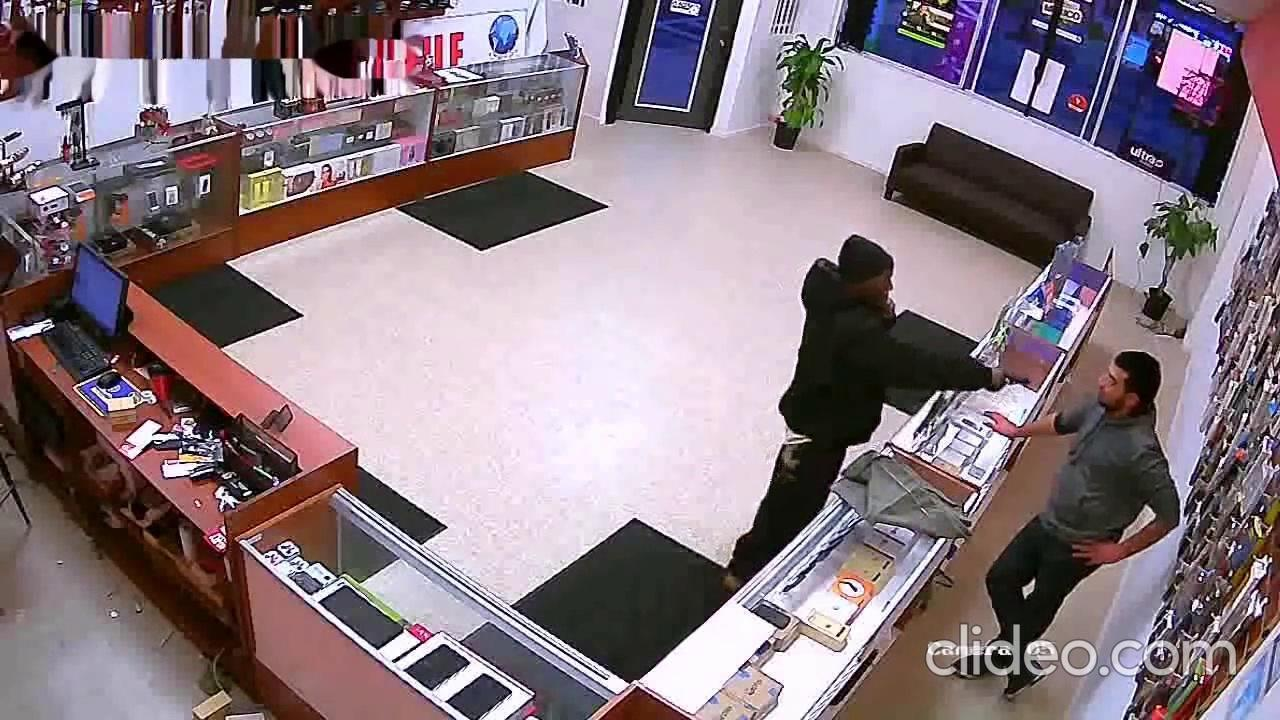person: (720, 233, 1007, 592), (949, 349, 1181, 701)
pistol: (997, 366, 1034, 389)
